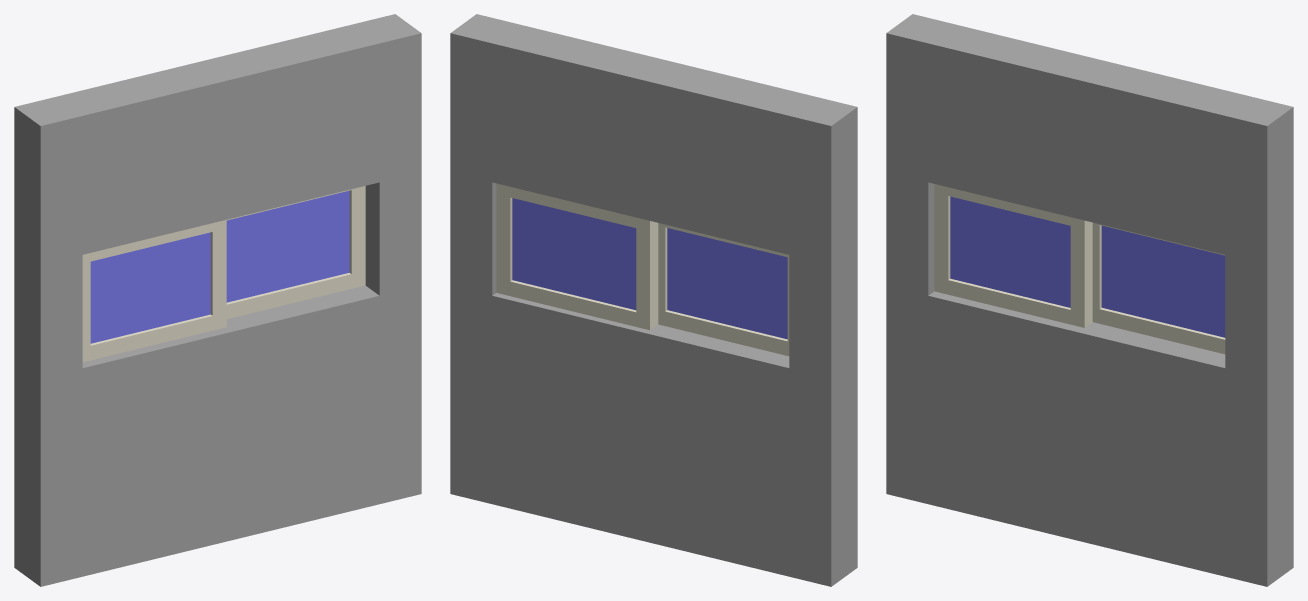
Rendered from Operating_room_Window6-1-1.fbx.
3 views of the same model, side by side, from view 1: azimuth 30°, elevation 25°; view 2: azimuth 150°, elevation 25°; view 3: azimuth 330°, elevation 25° (orthographic).
Parts seen in each view (by area): view 1: Operating room Window6-1-1.001, Operating room Window6-1-1.004, Operating room Window6-1-1.002, Operating room Window6-1-1, Operating room Window6-1-1.003; view 2: Operating room Window6-1-1.001, Operating room Window6-1-1.004, Operating room Window6-1-1.002, Operating room Window6-1-1.003, Operating room Window6-1-1; view 3: Operating room Window6-1-1.001, Operating room Window6-1-1.004, Operating room Window6-1-1.002, Operating room Window6-1-1, Operating room Window6-1-1.003.
Boxes of the visible parts, left/top/right/bottom form: Operating room Window6-1-1.001: left=14, top=14, right=421, bottom=586; Operating room Window6-1-1.004: left=226, top=190, right=349, bottom=302; Operating room Window6-1-1.002: left=90, top=232, right=210, bottom=343; Operating room Window6-1-1: left=82, top=220, right=226, bottom=361; Operating room Window6-1-1.003: left=226, top=186, right=365, bottom=318; Operating room Window6-1-1.001: left=450, top=14, right=857, bottom=586; Operating room Window6-1-1.004: left=512, top=198, right=636, bottom=310; Operating room Window6-1-1.002: left=667, top=228, right=787, bottom=339; Operating room Window6-1-1.003: left=496, top=183, right=658, bottom=330; Operating room Window6-1-1: left=658, top=223, right=789, bottom=356; Operating room Window6-1-1.001: left=886, top=14, right=1293, bottom=586; Operating room Window6-1-1.004: left=1101, top=225, right=1225, bottom=337; Operating room Window6-1-1.002: left=950, top=196, right=1070, bottom=307; Operating room Window6-1-1: left=934, top=184, right=1092, bottom=327; Operating room Window6-1-1.003: left=1092, top=222, right=1225, bottom=354.
Size of the model in its own units: 10.9 by 12.6 by 1.3.
